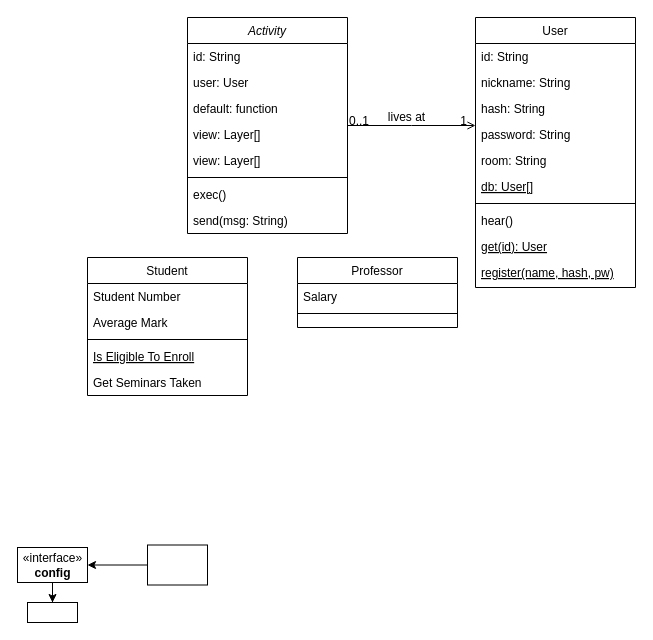
This 653x640 diagram has some shape labels left out. The shapes that lost their labels are listed below. From the top down, each one's centre as x and y in pixels, then its label:
At [177,564]: "DB".
At [52,612]: "config".
